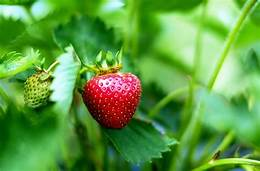Fresa: (79, 67, 147, 134)
